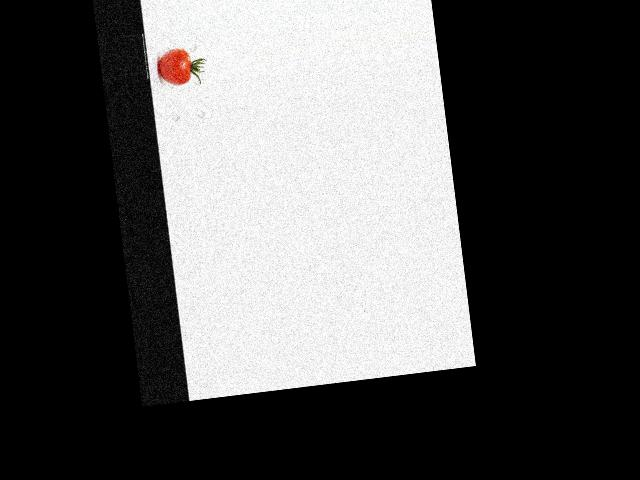tomato: (156, 47, 192, 87)
